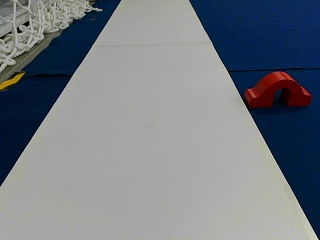bridge: (245, 71, 310, 105)
